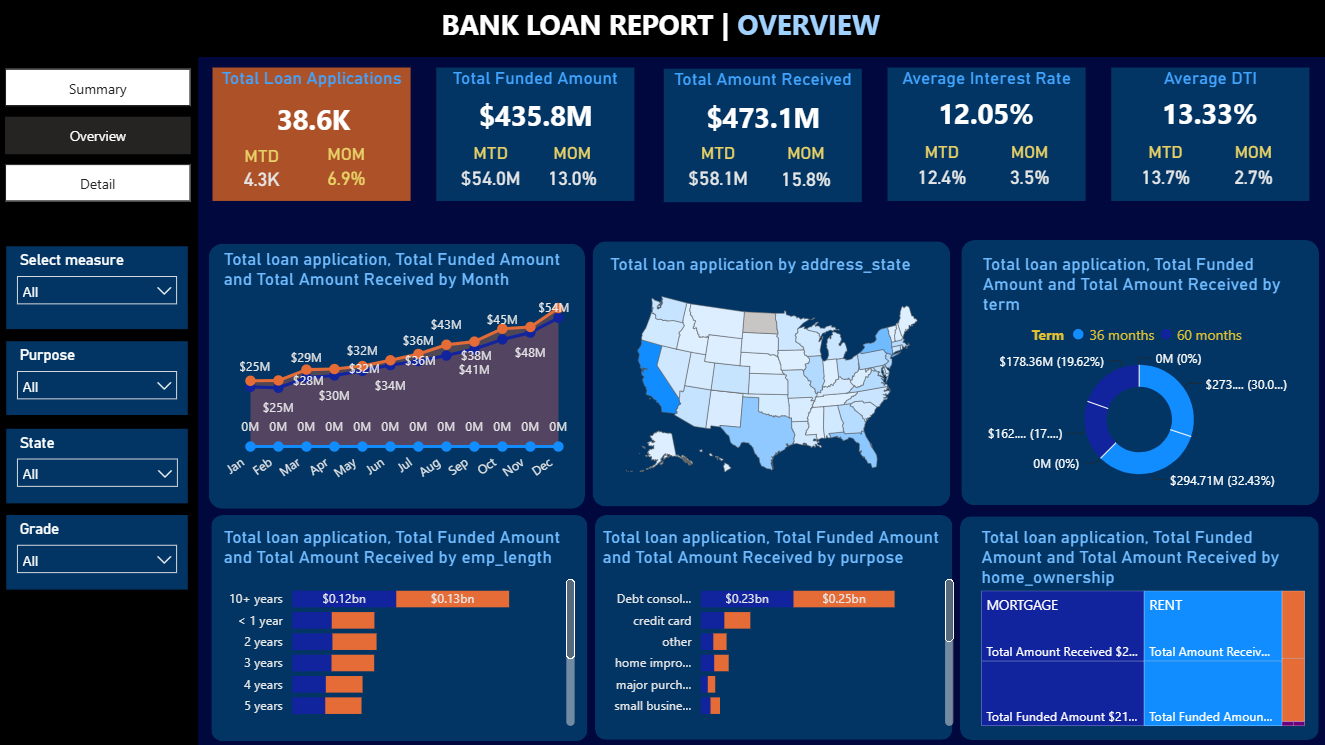

The dashboard page shown, as its layout file describes it:
{"tool":"powerbi","page":{"name":"Overview","canvas":[1280,720],"ordinal":1},"visuals":[{"type":"shape","box":[0,0,1280.3,55],"z":0},{"type":"textbox","title":" Total Funded Amount","box":[421.1,65.1,191.4,129],"z":1000,"group":"g2"},{"type":"textbox","title":"Average Interest Rate","box":[856,65.1,191.4,129],"z":1000,"group":"g4"},{"type":"textbox","title":"Average DTI","box":[1072.1,65.1,191.4,129],"z":1000,"group":"g5"},{"type":"textbox","title":"Total Loan Applications","box":[204.9,65.7,191.4,129],"z":1000,"group":"g1"},{"type":"textbox","title":"Total Amount Received","box":[640.1,65.9,191.4,129],"z":1000,"group":"g3"},{"type":"card","fields":{"Values":["financial_loan.Total loan application"]},"box":[195.7,85.7,195.7,43.2],"z":1000},{"type":"card","fields":{"Values":["financial_loan.Total loan application"]},"box":[415.7,85.7,195.7,43.2],"z":2000},{"type":"card","title":"MTD","fields":{"Values":["financial_loan.MTD avg int rate"]},"box":[874,136.8,68.7,51.9],"z":2000,"group":"g4"},{"type":"card","title":"MTD","fields":{"Values":["financial_loan.MTD avg dti"]},"box":[1090.1,136.8,68.7,51.9],"z":2000,"group":"g5"},{"type":"card","title":"MTD","fields":{"Values":["financial_loan.MTD funded amount"]},"box":[436.7,137.3,73.6,51],"z":2000,"group":"g2"},{"type":"card","title":"MTD","fields":{"Values":["financial_loan.MTD total amt recieved"]},"box":[658.1,137.6,68.7,51.9],"z":2000,"group":"g3"},{"type":"card","title":"MTD","fields":{"Values":["financial_loan.MTD loan application"]},"box":[223.7,140.2,56.5,48.3],"z":2000,"group":"g1"},{"type":"shape","box":[0,54.7,191.3,666],"z":3000},{"type":"card","title":"MOM","fields":{"Values":["financial_loan.MOM avg int rate"]},"box":[958,135.9,69.4,52.4],"z":3000,"group":"g4"},{"type":"card","title":"MOM","fields":{"Values":["financial_loan.MOM avg dti"]},"box":[1174.1,135.9,69.4,52.4],"z":3000,"group":"g5"},{"type":"card","title":"MOM","fields":{"Values":["financial_loan.MOM total amt received"]},"box":[742.1,136.7,69.4,52.4],"z":3000,"group":"g3"},{"type":"card","title":"MOM","fields":{"Values":["financial_loan.MOM funded amount"]},"box":[516,137.3,72.2,51],"z":3000,"group":"g2"},{"type":"card","title":"MOM","fields":{"Values":["financial_loan.MOM loan application"]},"box":[305.5,139.3,58.1,49.6],"z":3000,"group":"g1"},{"type":"textbox","box":[421.5,0,527.9,59],"z":4000},{"type":"group","id":"g1","title":"Group 2","box":[204.9,65.7,191.4,129],"z":5000},{"type":"group","id":"g2","title":"Group 1","box":[421.1,65.1,191.4,129],"z":6000},{"type":"group","id":"g3","title":"Group 1","box":[640.1,65.9,191.4,129],"z":7000},{"type":"group","id":"g4","title":"Group 1","box":[856,65.1,192.6,128.9],"z":8000},{"type":"card","fields":{"Values":["financial_loan.Total loan application"]},"box":[241.2,92.6,122.4,48.4],"z":8000,"group":"g1"},{"type":"card","fields":{"Values":["financial_loan.Average Interest Rate"]},"box":[885.4,86.8,131.9,47.8],"z":8001,"group":"g4"},{"type":"card","fields":{"Values":["financial_loan.Average DTI"]},"box":[1101.5,86.8,131.9,47.8],"z":8001,"group":"g5"},{"type":"card","fields":{"Values":["financial_loan.Total Funded Amount"]},"box":[450.7,88,131.8,48.4],"z":8001,"group":"g2"},{"type":"card","fields":{"Values":["financial_loan.Total Amount Received"]},"box":[669.7,90.1,131.8,48.4],"z":8001,"group":"g3"},{"type":"group","id":"g5","title":"Group 1","box":[1072.1,65.1,192.6,128.9],"z":9000},{"type":"slicer","fields":{"Values":["financial_loan.purpose"]},"box":[6,329.2,174.9,71.2],"z":10000},{"type":"slicer","fields":{"Values":["financial_loan.address_state"]},"box":[5.5,413.4,175.5,71.9],"z":11000},{"type":"shape","box":[201.5,235.3,363.1,255.8],"z":12000},{"type":"slicer","fields":{"Values":["financial_loan.grade"]},"box":[6,496.9,174.9,72.4],"z":13000},{"type":"areaChart","fields":{"Y":["financial_loan.Total loan application","financial_loan.Total Funded Amount","financial_loan.Total Amount Received"],"Category":["Date Table.Month"]},"box":[211,240.2,343.8,243.1],"z":14000},{"type":"slicer","fields":{"Values":["Select measure.Select measure"]},"box":[6,237.5,174.9,79.6],"z":15000},{"type":"shape","box":[572.1,233,345.2,256.1],"z":16000},{"type":"shapeMap","fields":{"Value":["financial_loan.Total loan application"],"Category":["financial_loan.address_state"]},"box":[584.3,244.8,322.2,233],"z":17000},{"type":"shape","box":[927.9,231.6,345.2,256.1],"z":18000},{"type":"donutChart","fields":{"Y":["financial_loan.Total loan application","financial_loan.Total Funded Amount","financial_loan.Total Amount Received"],"Category":["financial_loan.term"]},"box":[943.4,244.9,312.5,232.8],"z":19000},{"type":"shape","box":[203.9,496.8,363.1,218.4],"z":20000},{"type":"shape","box":[574.3,497.1,345,217.2],"z":21000},{"type":"shape","box":[926.5,498.3,346.2,216],"z":22000},{"type":"barChart","fields":{"Y":["financial_loan.Total loan application","financial_loan.Total Funded Amount","financial_loan.Total Amount Received"],"Category":["financial_loan.emp_length"]},"box":[211.1,507.7,348.7,197.9],"z":23000},{"type":"barChart","fields":{"Y":["financial_loan.Total loan application","financial_loan.Total Funded Amount","financial_loan.Total Amount Received"],"Category":["financial_loan.purpose"]},"box":[576.7,507.9,348.7,197.9],"z":24000},{"type":"treemap","fields":{"Values":["financial_loan.Total loan application","financial_loan.Total Funded Amount","financial_loan.Total Amount Received"],"Group":["financial_loan.home_ownership"]},"box":[942.2,507.9,322.1,197.9],"z":25000},{"type":"pageNavigator","box":[4.8,66.4,179.8,129.1],"z":26000}]}

Visuals, with their boxes in screenshot pixels (x1, y1, x2, y2), scaled from the page's 1280x720 canvas onto the 1325x745 screenshot:
shape: (left=0, top=0, right=1324, bottom=57)
" Total Funded Amount" textbox: (left=436, top=67, right=634, bottom=201)
"Average Interest Rate" textbox: (left=886, top=67, right=1084, bottom=201)
"Average DTI" textbox: (left=1110, top=67, right=1308, bottom=201)
"Total Loan Applications" textbox: (left=212, top=68, right=410, bottom=201)
"Total Amount Received" textbox: (left=663, top=68, right=861, bottom=202)
card - financial_loan.Total loan application: (left=203, top=89, right=405, bottom=133)
card - financial_loan.Total loan application: (left=430, top=89, right=633, bottom=133)
"MTD" card: (left=905, top=142, right=976, bottom=195)
"MTD" card: (left=1128, top=142, right=1200, bottom=195)
"MTD" card: (left=452, top=142, right=528, bottom=195)
"MTD" card: (left=681, top=142, right=752, bottom=196)
"MTD" card: (left=232, top=145, right=290, bottom=195)
shape: (left=0, top=57, right=198, bottom=744)
"MOM" card: (left=992, top=141, right=1064, bottom=195)
"MOM" card: (left=1215, top=141, right=1287, bottom=195)
"MOM" card: (left=768, top=141, right=840, bottom=196)
"MOM" card: (left=534, top=142, right=609, bottom=195)
"MOM" card: (left=316, top=144, right=376, bottom=195)
textbox: (left=436, top=0, right=983, bottom=61)
"Group 2" group: (left=212, top=68, right=410, bottom=201)
"Group 1" group: (left=436, top=67, right=634, bottom=201)
"Group 1" group: (left=663, top=68, right=861, bottom=202)
"Group 1" group: (left=886, top=67, right=1085, bottom=201)
card - financial_loan.Total loan application: (left=250, top=96, right=376, bottom=146)
card - financial_loan.Average Interest Rate: (left=917, top=90, right=1053, bottom=139)
card - financial_loan.Average DTI: (left=1140, top=90, right=1277, bottom=139)
card - financial_loan.Total Funded Amount: (left=467, top=91, right=603, bottom=141)
card - financial_loan.Total Amount Received: (left=693, top=93, right=830, bottom=143)
"Group 1" group: (left=1110, top=67, right=1309, bottom=201)
slicer - financial_loan.purpose: (left=6, top=341, right=187, bottom=414)
slicer - financial_loan.address_state: (left=6, top=428, right=187, bottom=502)
shape: (left=209, top=243, right=584, bottom=508)
slicer - financial_loan.grade: (left=6, top=514, right=187, bottom=589)
areaChart - financial_loan.Total loan application x financial_loan.Total Funded Amount: (left=218, top=249, right=574, bottom=500)
slicer - Select measure.Select measure: (left=6, top=246, right=187, bottom=328)
shape: (left=592, top=241, right=950, bottom=506)
shapeMap - financial_loan.Total loan application x financial_loan.address_state: (left=605, top=253, right=938, bottom=494)
shape: (left=961, top=240, right=1318, bottom=505)
donutChart - financial_loan.Total loan application x financial_loan.Total Funded Amount: (left=977, top=253, right=1300, bottom=494)
shape: (left=211, top=514, right=587, bottom=740)
shape: (left=594, top=514, right=952, bottom=739)
shape: (left=959, top=516, right=1317, bottom=739)
barChart - financial_loan.Total loan application x financial_loan.Total Funded Amount: (left=219, top=525, right=579, bottom=730)
barChart - financial_loan.Total loan application x financial_loan.Total Funded Amount: (left=597, top=526, right=958, bottom=730)
treemap - financial_loan.Total loan application x financial_loan.Total Funded Amount: (left=975, top=526, right=1309, bottom=730)
pageNavigator: (left=5, top=69, right=191, bottom=202)
